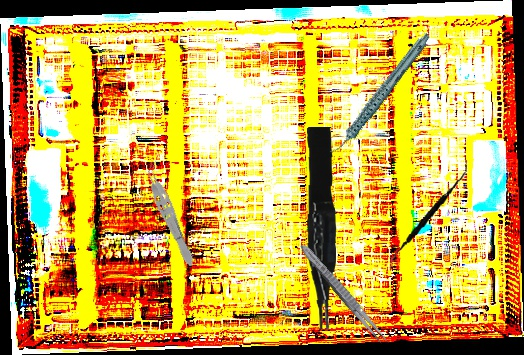Dressing Forceps: (296, 240, 393, 350)
Handpiece: (307, 31, 452, 157)
Spatula Surgical: (388, 152, 468, 278)
Tissue Forceps: (300, 126, 341, 331), (139, 158, 200, 270)
